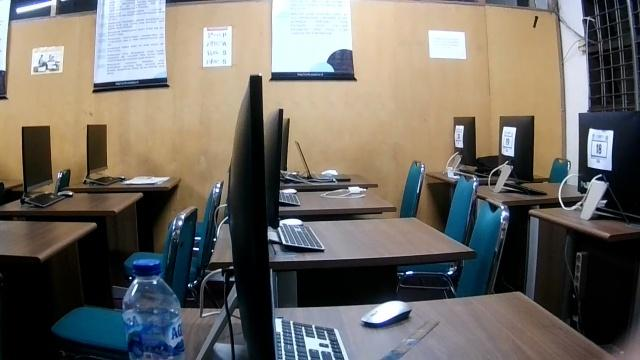AIO PC-Monitor-TV: (226, 72, 279, 359), (574, 110, 639, 221), (490, 114, 535, 192), (19, 123, 51, 196), (449, 115, 477, 177)
Kursi: (396, 173, 478, 286)
Meja: (206, 212, 477, 280)
